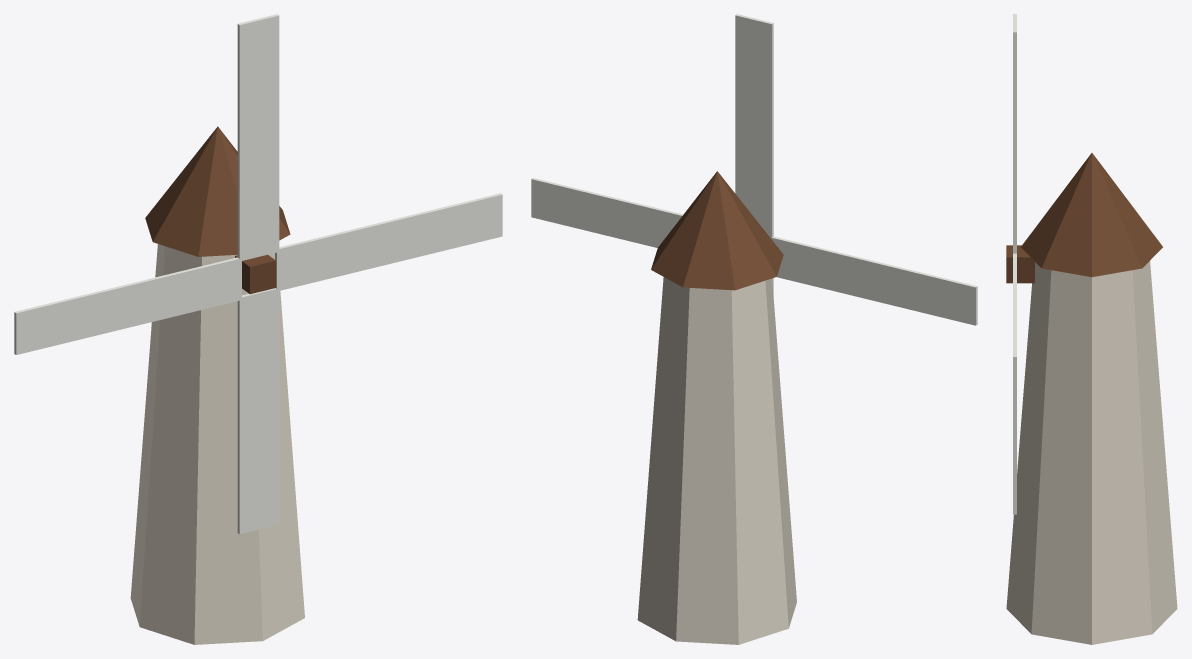
The model's file is windmill.fbx.
3 renders of one model, left to right at view 1: azimuth 30°, elevation 25°; view 2: azimuth 150°, elevation 25°; view 3: azimuth 270°, elevation 25°, orthographic. The views are drawn at different scales.
Visible parts, largest first — view 1: Tower, Sail1, Sail3, Sail2, Sail4, Roof, Rotor; view 2: Tower, Roof, Sail2, Sail1, Sail4; view 3: Tower, Roof, Sail1, Rotor, Sail4, Sail3.
Part boxes in pixels (x1,y1,x2,y2): Tower: (130, 244, 304, 644); Sail1: (237, 14, 279, 260); Sail3: (237, 288, 279, 534); Sail2: (14, 257, 241, 354); Sail4: (275, 193, 502, 290); Roof: (145, 126, 290, 256); Rotor: (235, 254, 275, 294); Tower: (637, 277, 796, 644); Roof: (651, 171, 783, 290); Sail2: (772, 236, 977, 325); Sail1: (735, 14, 773, 239); Sail4: (531, 178, 683, 247); Tower: (1006, 261, 1177, 644); Roof: (1021, 153, 1162, 277); Sail1: (1013, 14, 1016, 253); Rotor: (1006, 245, 1034, 283); Sail4: (1013, 253, 1016, 396); Sail3: (1013, 396, 1016, 514).
Size of the model in its own units: 560 by 680 by 180.
